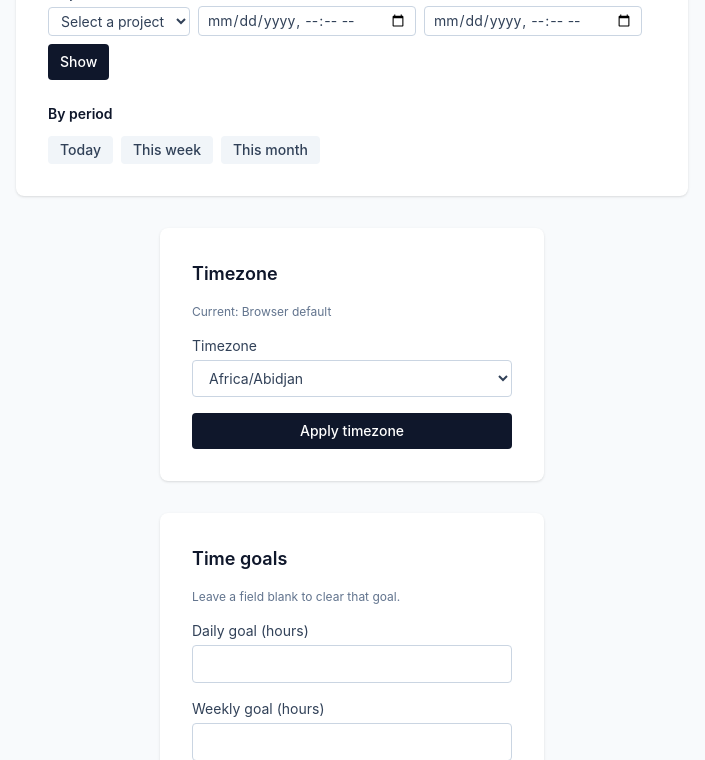
Test case: DashboardPage › shows an error when saving the timezone fails
(page scrolled)
Step 1. Select "America/New_York" in the dropdown labelled "Timezone" → (352, 378), box [192,360,512,397]
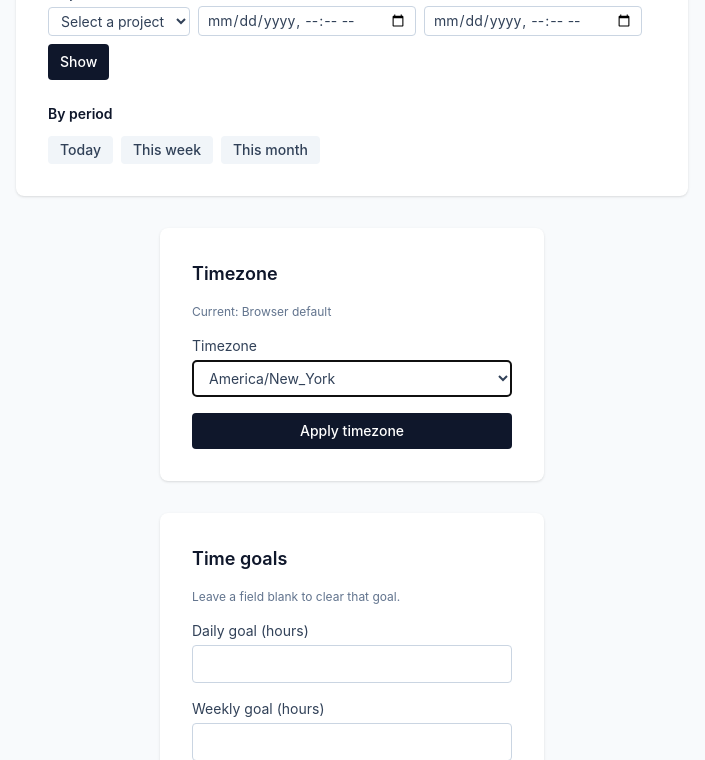
Step 2. Click the button "Apply timezone" → click(352, 431), box [192,413,512,449]
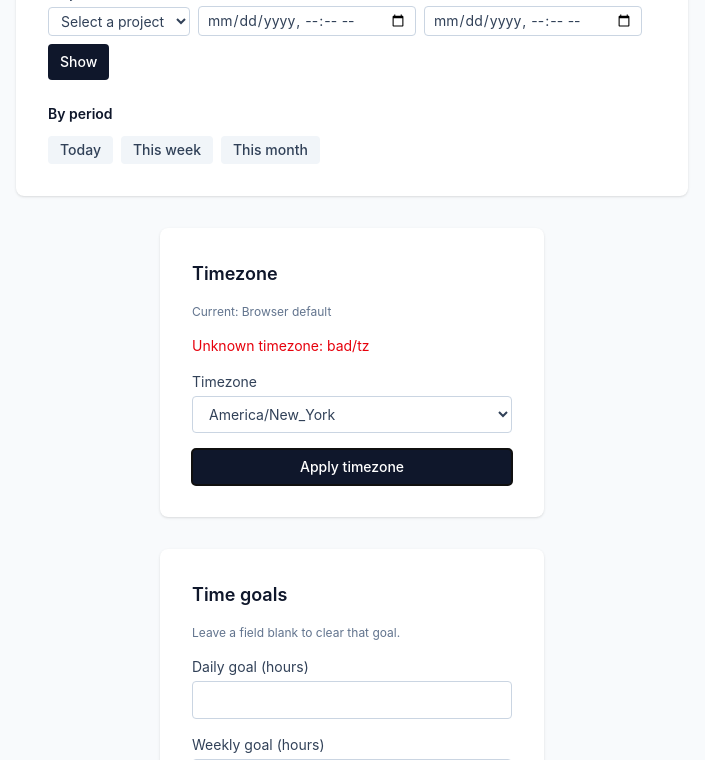
Now the text "Unknown timezone: bad/tz" is shown, box [192,337,370,354]
